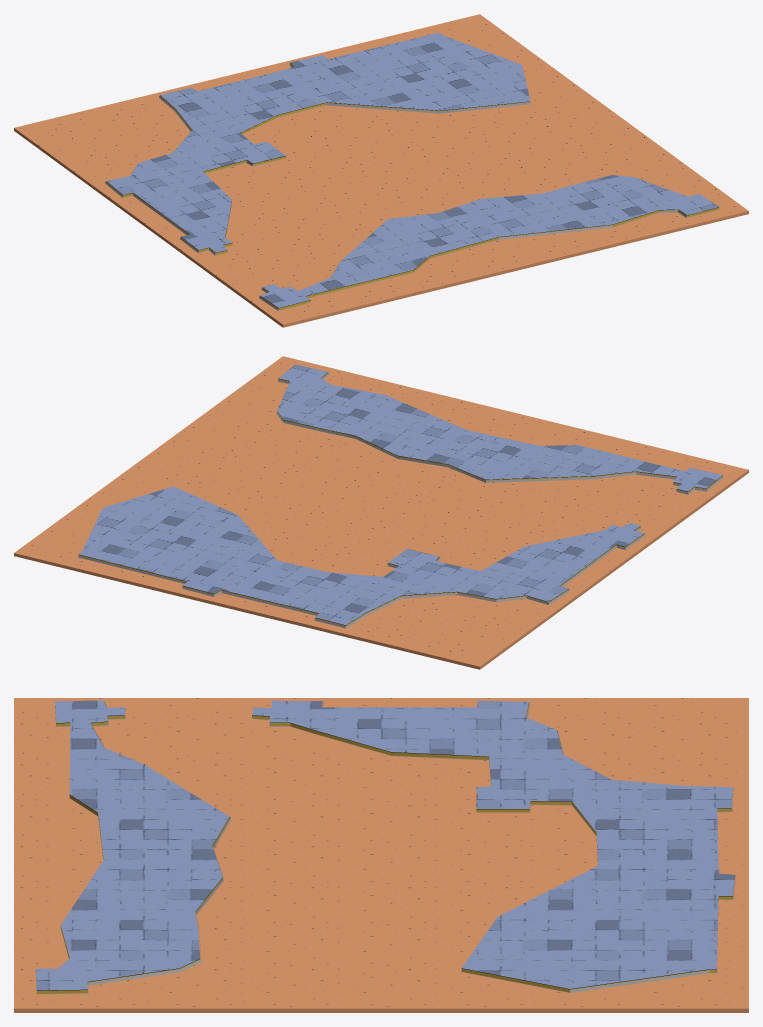
Rendered from Rooms_Paradise_08B_Floor_Sand_Art.fbx.
3 renders of one model, top to bottom at view 1: azimuth 30°, elevation 25°; view 2: azimuth 150°, elevation 25°; view 3: azimuth 270°, elevation 25°, orthographic. The views are drawn at different scales.
Visible parts, largest first — view 1: Rooms_Paradise_08B_Floor_Sand_Art, Rooms_Paradise_08B_Floor_Tiles, Rooms_Paradise_08B_Floor_Shadows; view 2: Rooms_Paradise_08B_Floor_Sand_Art, Rooms_Paradise_08B_Floor_Tiles, Rooms_Paradise_08B_Floor_Shadows; view 3: Rooms_Paradise_08B_Floor_Sand_Art, Rooms_Paradise_08B_Floor_Tiles, Rooms_Paradise_08B_Floor_Shadows.
Boxes of the visible parts, x1,y1,x2,y2 form: Rooms_Paradise_08B_Floor_Sand_Art: (14, 14, 748, 327); Rooms_Paradise_08B_Floor_Tiles: (106, 32, 719, 310); Rooms_Paradise_08B_Floor_Shadows: (105, 63, 719, 310); Rooms_Paradise_08B_Floor_Sand_Art: (14, 356, 748, 669); Rooms_Paradise_08B_Floor_Tiles: (78, 364, 722, 625); Rooms_Paradise_08B_Floor_Shadows: (78, 373, 723, 628); Rooms_Paradise_08B_Floor_Sand_Art: (14, 698, 748, 1012); Rooms_Paradise_08B_Floor_Tiles: (35, 700, 734, 993); Rooms_Paradise_08B_Floor_Shadows: (37, 701, 735, 994).
Bounding box in the file's own units: 1600 × 19.87 × 1600.
